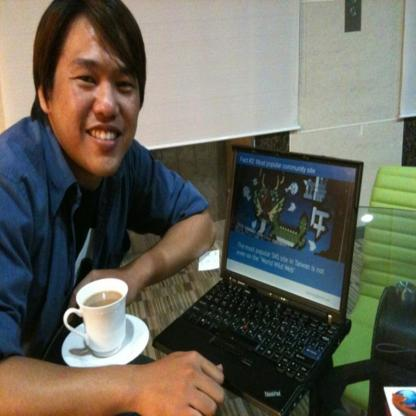board: (161, 143, 363, 415)
